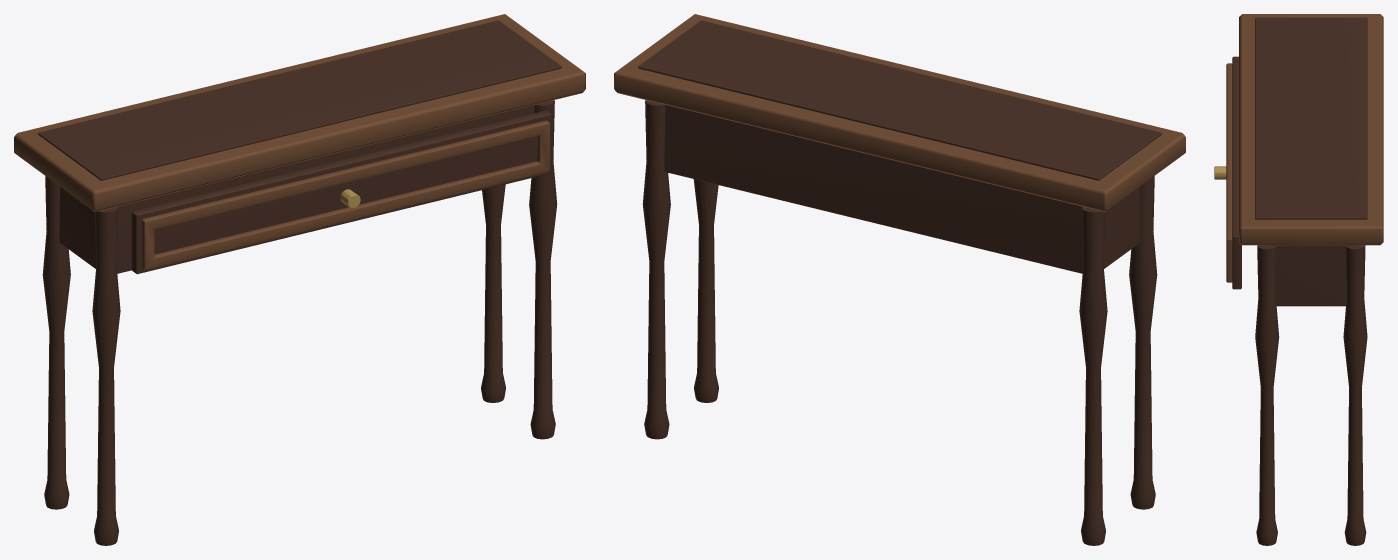
Rendered from rpg-mansion-console-01.glb.
The picture shows the model from 3 angles, left to right: view 1: azimuth 30°, elevation 25°; view 2: azimuth 150°, elevation 25°; view 3: azimuth 270°, elevation 25°; orthographic projection. The views are drawn at different scales.
Visible parts, largest first — view 1: rpg-mansion-console-01; view 2: rpg-mansion-console-01; view 3: rpg-mansion-console-01.
Boxes of the visible parts, <box> form: rpg-mansion-console-01: <box>14,14,585,545</box>; rpg-mansion-console-01: <box>614,14,1185,545</box>; rpg-mansion-console-01: <box>1214,14,1383,545</box>.
Size of the model in its own units: 1.2 by 0.86 by 0.4.
